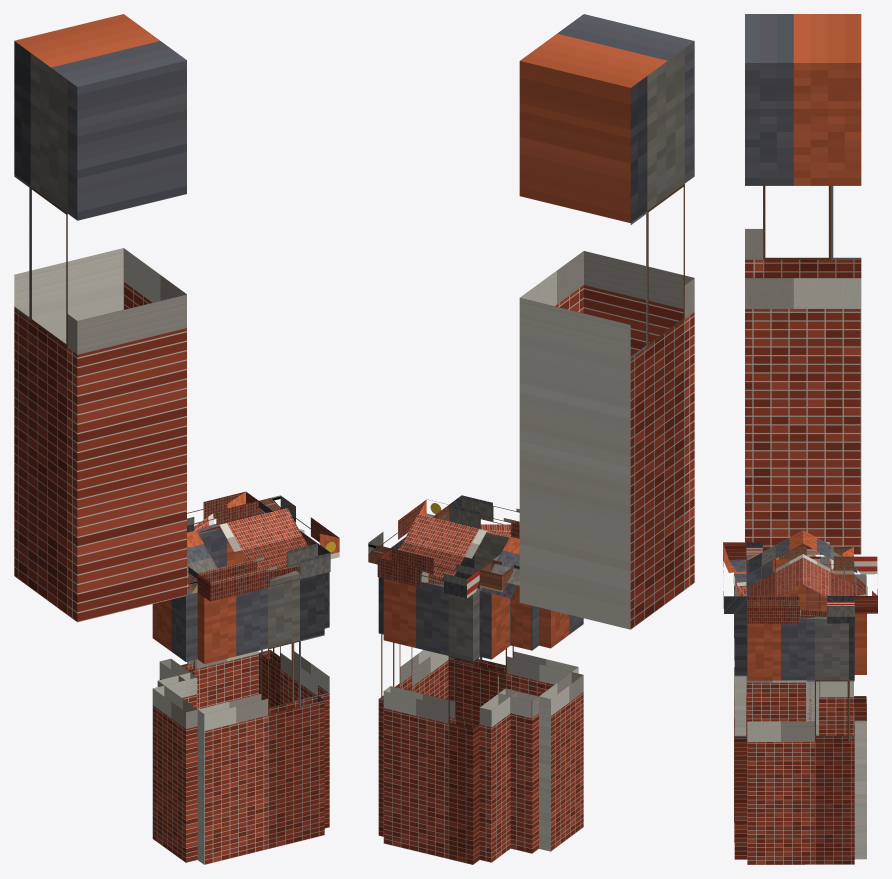
The picture shows the model from 3 angles, left to right: view 1: azimuth 30°, elevation 25°; view 2: azimuth 150°, elevation 25°; view 3: azimuth 270°, elevation 25°; orthographic projection. The views are drawn at different scales.
Parts seen in each view (by area): view 1: 1106965476__chimney_0_xb, 1106965476__wall_4_xb, 1106965476__wall_5_xb, 1106965476_roof_-1_xb, 1106965476__wall_2_xb, 1106965476__wall_3_xb, 1106965476__cornice_4, 1106965476__cornice_2, 1106965476__cornice_3, 1106965476__wall_0_xb; view 2: 1106965476__chimney_0_xb, 1106965476__wall_2_xb, 1106965476__wall_5_xb, 1106965476__wall_1_xb, 1106965476__wall_0_xb, 1106965476__wall_4_xb, 1106965476_roof_1_xb, 1106965476__wall_3_xb, 1106965476__cornice_2, 1106965476__cornice_4, 1106965476__cornice_3; view 3: 1106965476__chimney_0_xb, 1106965476__wall_3_xb, 1106965476__wall_4_xb, 1106965476__wall_5_xb, 1106965476__wall_2_xb, 1106965476__cornice_3, 1106965476__wall_1_xb, 1106965476_roof_-1_xb, 1106965476_roof_1_xb, 1106965476__cornice_4, 1106965476__cornice_2, 1106965476__wall_0_xb (+2 smaller).
Part boxes in pixels (x1=…): 1106965476__chimney_0_xb: x1=14, y1=14, x2=186, y2=622; 1106965476__wall_4_xb: x1=197, y1=569, x2=324, y2=864; 1106965476__wall_5_xb: x1=152, y1=585, x2=197, y2=862; 1106965476_roof_-1_xb: x1=187, y1=508, x2=307, y2=590; 1106965476__wall_2_xb: x1=181, y1=524, x2=258, y2=709; 1106965476__wall_3_xb: x1=258, y1=572, x2=329, y2=828; 1106965476__cornice_4: x1=197, y1=543, x2=330, y2=601; 1106965476__cornice_2: x1=187, y1=491, x2=258, y2=534; 1106965476__cornice_3: x1=258, y1=495, x2=339, y2=559; 1106965476__wall_0_xb: x1=157, y1=577, x2=197, y2=708; 1106965476__chimney_0_xb: x1=519, y1=14, x2=694, y2=629; 1106965476__wall_2_xb: x1=383, y1=576, x2=479, y2=864; 1106965476__wall_5_xb: x1=539, y1=607, x2=583, y2=851; 1106965476__wall_1_xb: x1=479, y1=589, x2=517, y2=862; 1106965476__wall_0_xb: x1=498, y1=585, x2=538, y2=853; 1106965476__wall_4_xb: x1=449, y1=532, x2=578, y2=723; 1106965476_roof_1_xb: x1=399, y1=514, x2=519, y2=598; 1106965476__wall_3_xb: x1=378, y1=577, x2=448, y2=836; 1106965476__cornice_2: x1=377, y1=548, x2=479, y2=598; 1106965476__cornice_4: x1=449, y1=495, x2=519, y2=538; 1106965476__cornice_3: x1=368, y1=499, x2=448, y2=564; 1106965476__chimney_0_xb: x1=745, y1=14, x2=861, y2=554; 1106965476__wall_3_xb: x1=747, y1=617, x2=854, y2=864; 1106965476__wall_4_xb: x1=734, y1=559, x2=747, y2=859; 1106965476__wall_5_xb: x1=746, y1=555, x2=806, y2=734; 1106965476__wall_2_xb: x1=854, y1=574, x2=866, y2=859; 1106965476__cornice_3: x1=747, y1=596, x2=854, y2=623; 1106965476__wall_1_xb: x1=806, y1=574, x2=853, y2=735; 1106965476_roof_-1_xb: x1=749, y1=530, x2=802, y2=596; 1106965476_roof_1_xb: x1=803, y1=530, x2=857, y2=613; 1106965476__cornice_4: x1=723, y1=542, x2=747, y2=613; 1106965476__cornice_2: x1=854, y1=556, x2=877, y2=613; 1106965476__wall_0_xb: x1=806, y1=587, x2=818, y2=735.
Size of the model in its own units: 0.3607 by 1.05 by 0.1999.
1 material, 1 textured.
